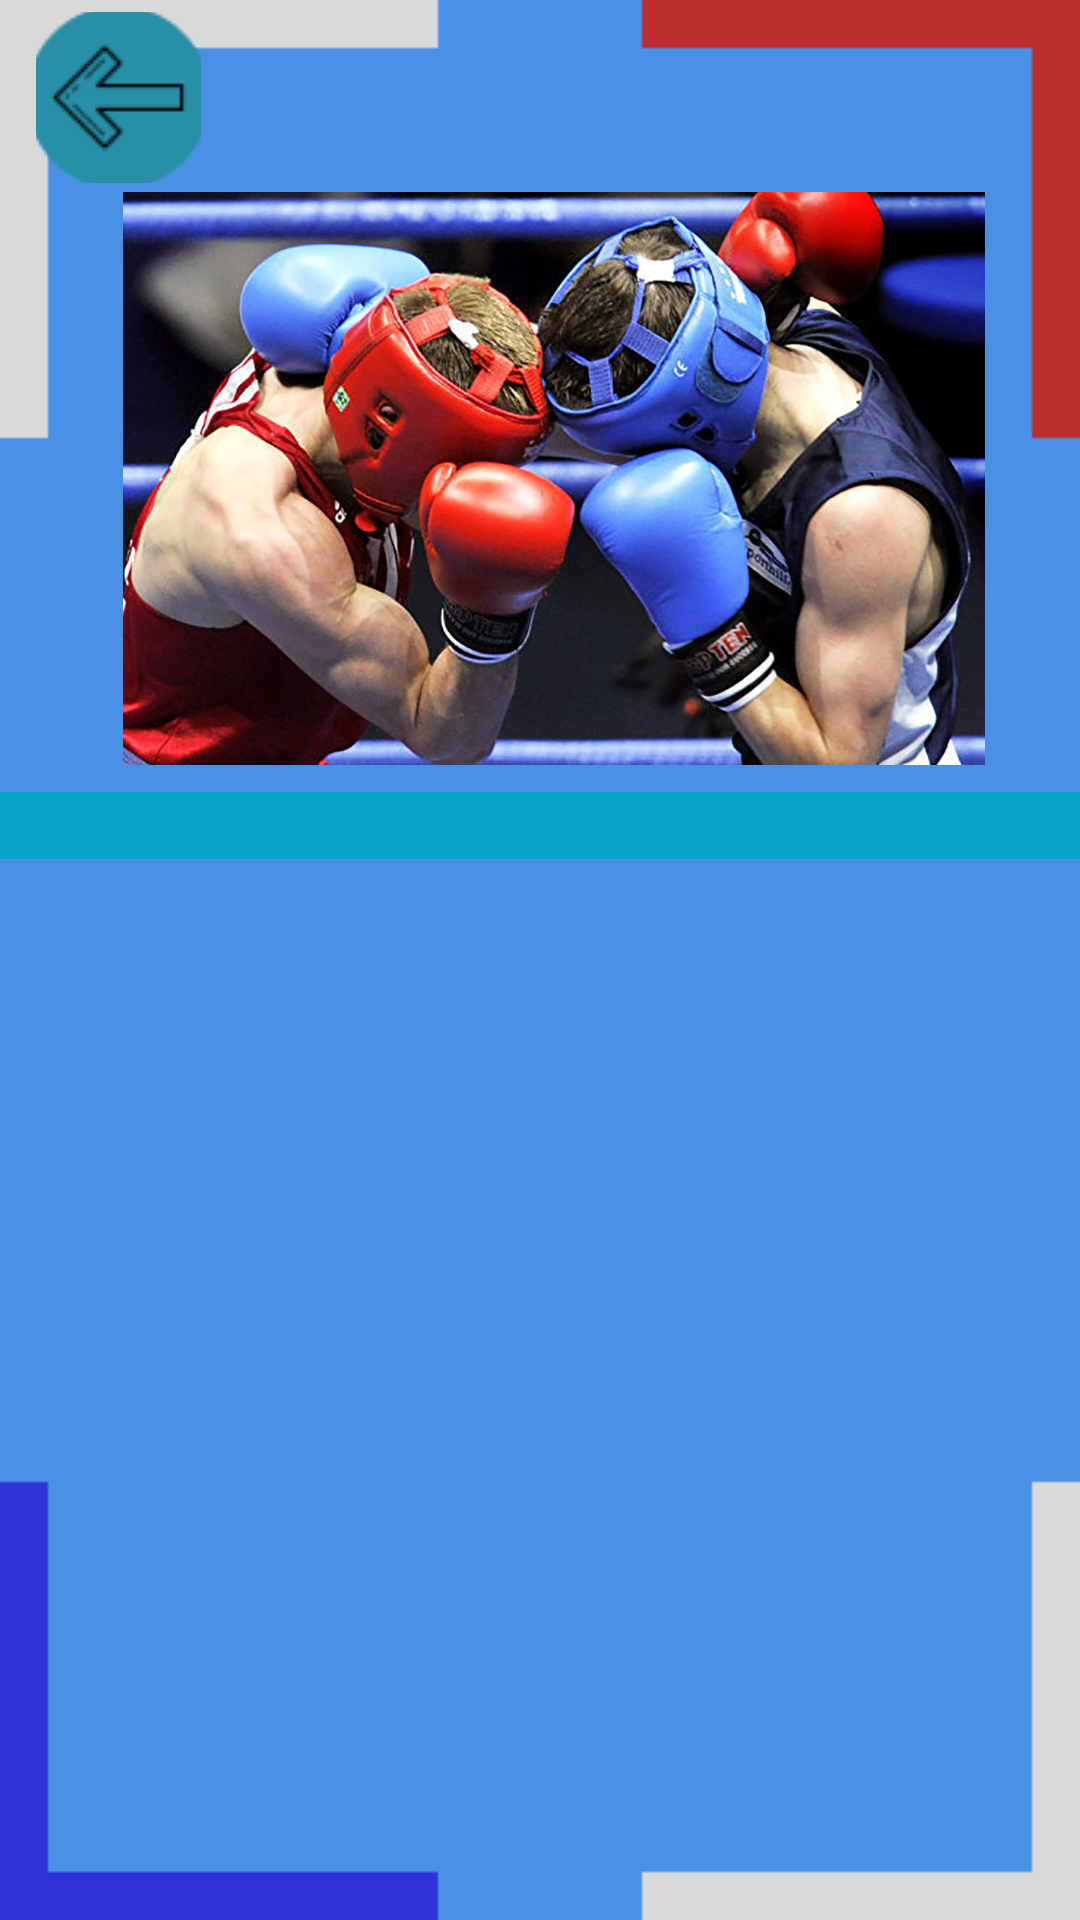

Icon click points for this 1080*1920 phone screenshot, format (x=x, y=y):
strelka: (x=118, y=97)
